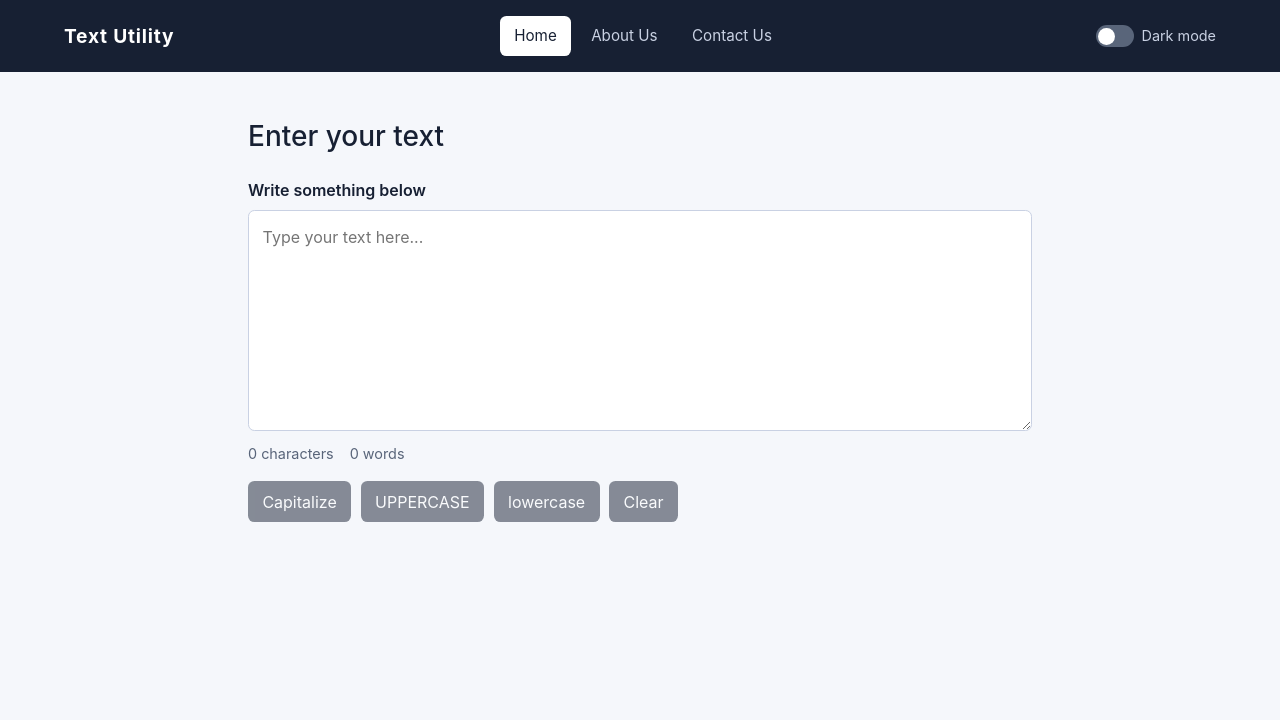
Scenario: dismisses a successful action alert
The image size is (1280, 720).
Type "hello" into the text box at (640, 321), box [248,210,1032,431]
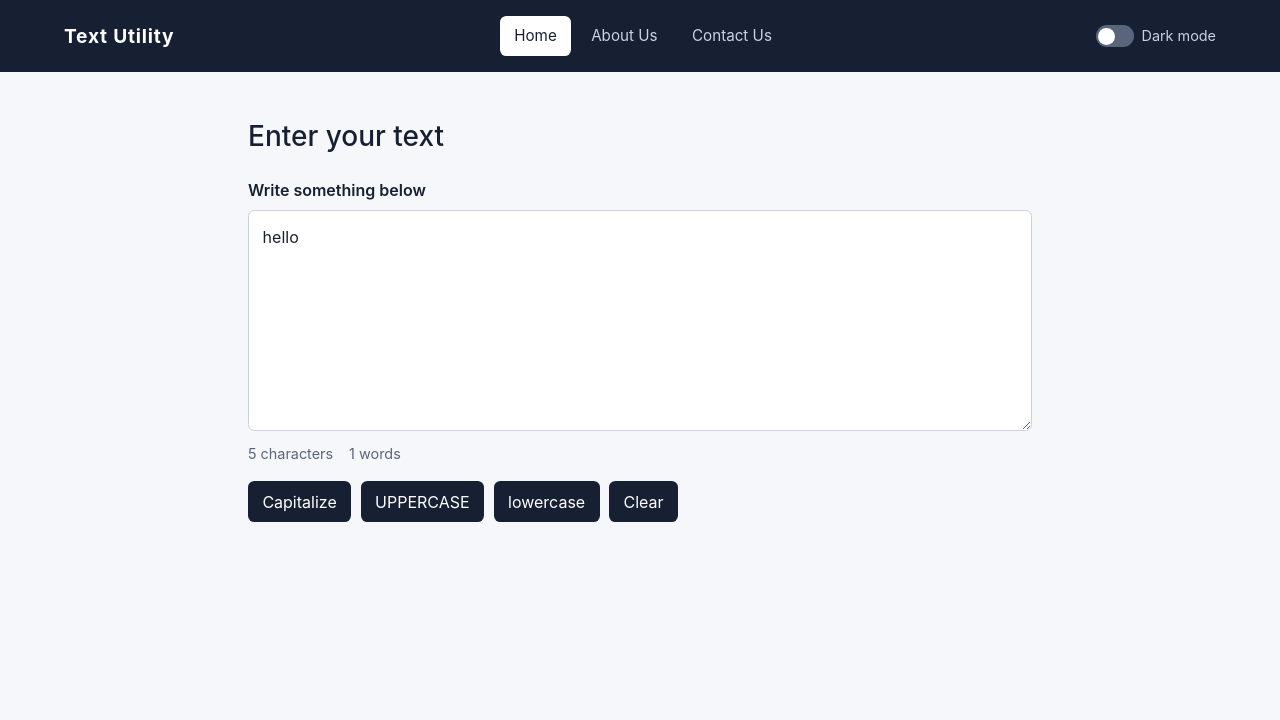
Click the button "UPPERCASE" at (422, 502), box [361,481,484,522]
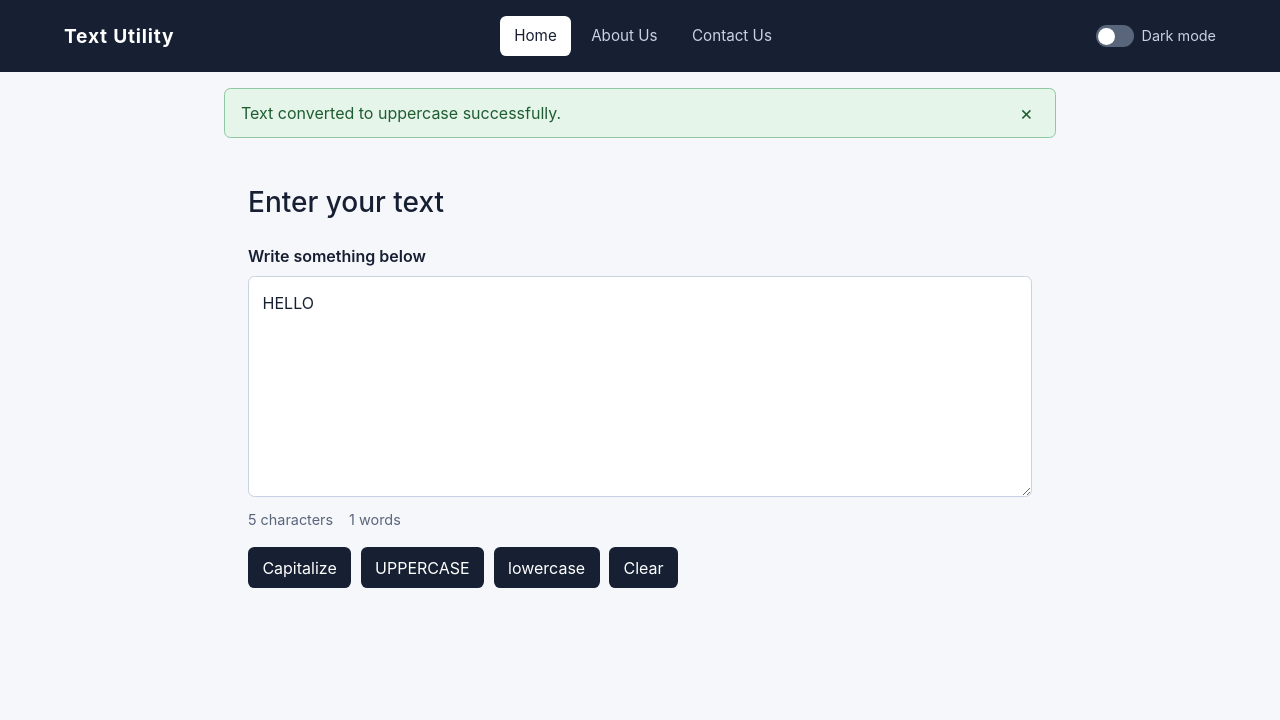
Click the button named "Dismiss alert" at (1026, 113), box [1014,102,1039,124]
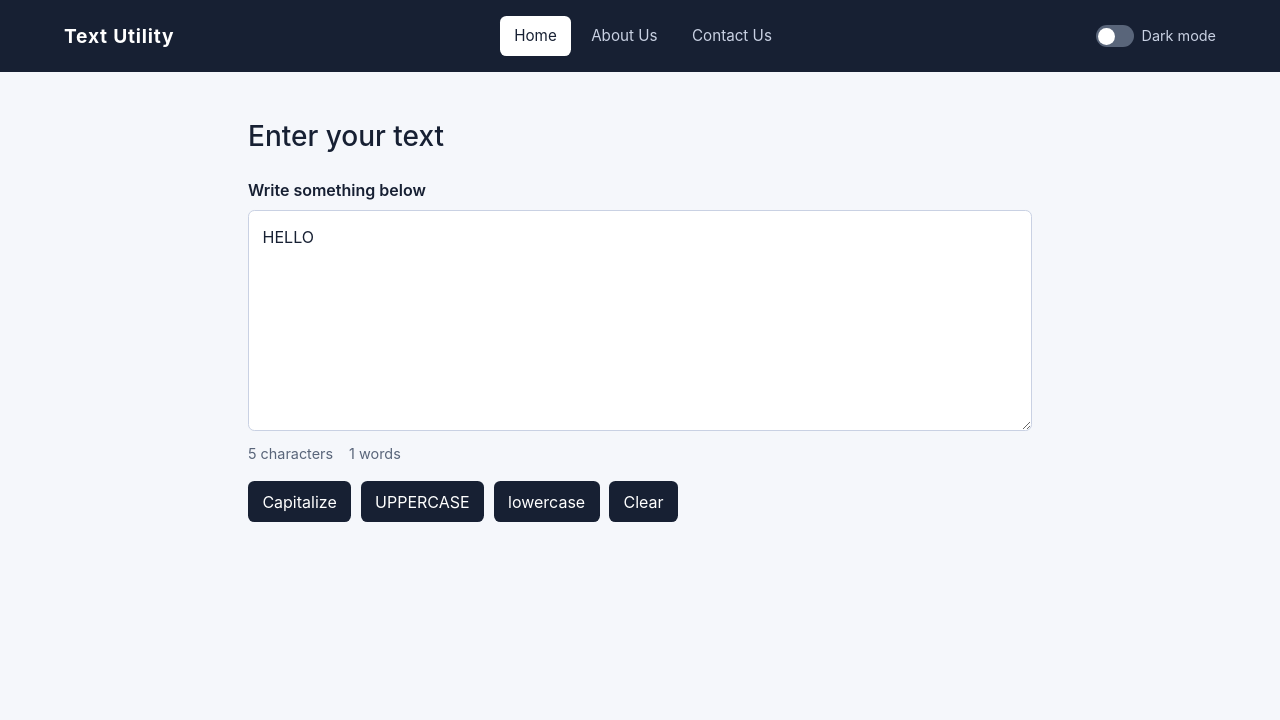
Check: the message "Text converted to uppercase successfully. ×" is gone
